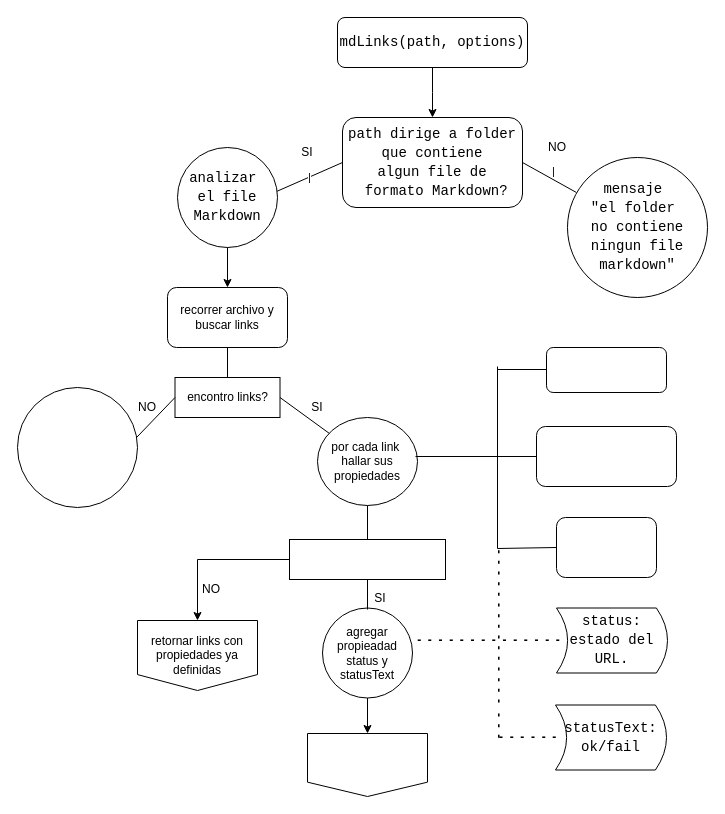
This 725x814 diagram has some shape labels left out. Here are the shapes that lost their labels. From the top down, the box of each, then its label:
(546, 346, 666, 392): href: URL encontrada
(16, 386, 138, 508): mensaje "el file no contiene ningun link"
(536, 426, 676, 486): text: Texto que aparece del link
(288, 538, 446, 580): options.validate = = true?
(556, 516, 656, 578): file: directorio del link.
(306, 732, 428, 796): retornar links con sus propiedades en total
